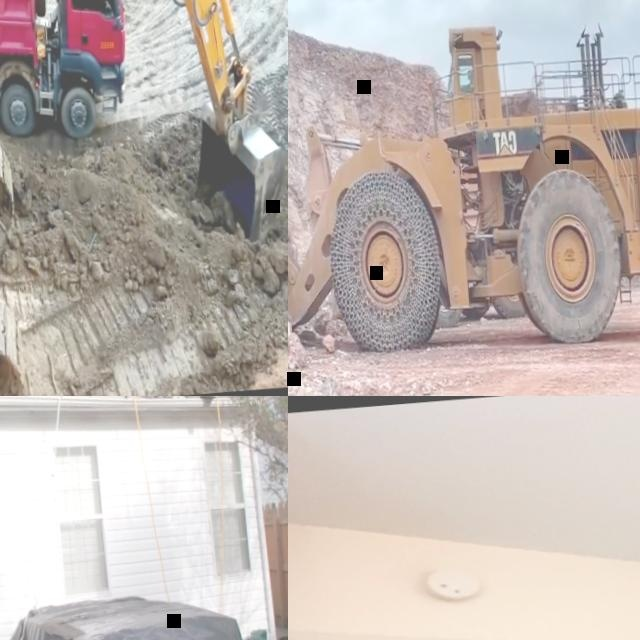NO-Safety Vest: (85, 0, 103, 8)
Person: (84, 0, 110, 14), (460, 68, 474, 89)
machinery: (288, 0, 640, 367), (0, 0, 288, 396), (0, 0, 138, 158)
